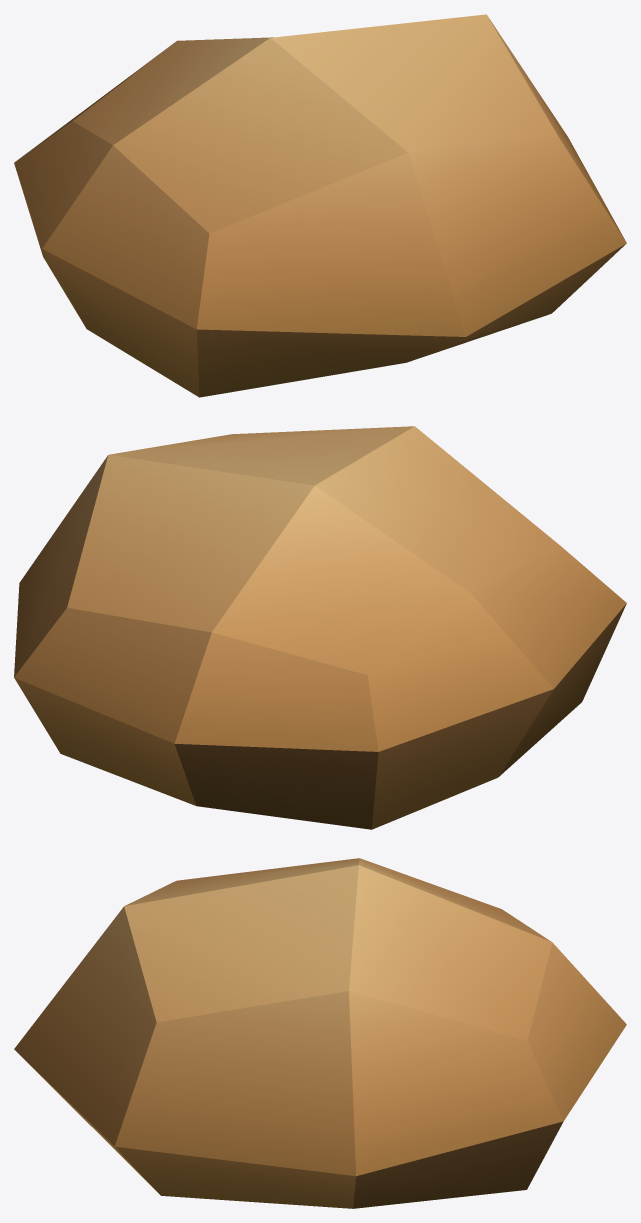
The model's file is rock1.fbx.
3 views of the same model, one above another, from view 1: azimuth 30°, elevation 25°; view 2: azimuth 150°, elevation 25°; view 3: azimuth 270°, elevation 25° (orthographic).
Visible parts, largest first — view 1: Cube.005; view 2: Cube.005; view 3: Cube.005.
Boxes of the visible parts, x1,y1,x2,y2 form: Cube.005: [14, 14, 626, 397]; Cube.005: [14, 426, 626, 829]; Cube.005: [14, 858, 626, 1208].
Size of the model in its own units: 170 by 75.78 by 173.
